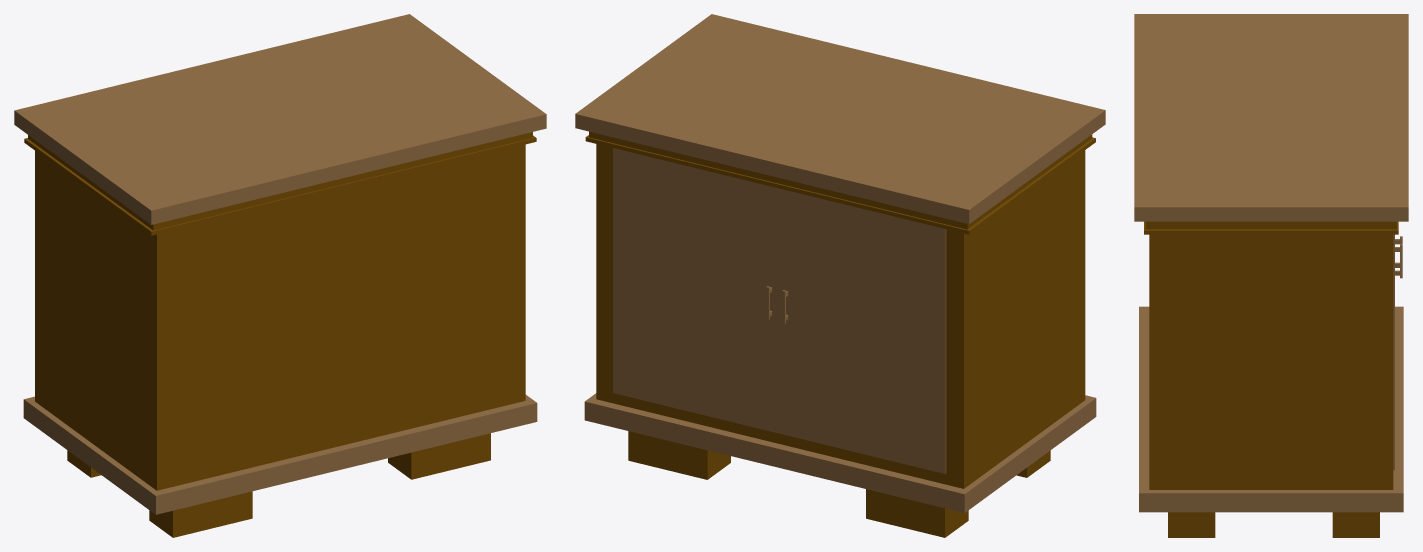
Rendered from dresser1.fbx.
The picture shows the model from 3 angles, left to right: view 1: azimuth 30°, elevation 25°; view 2: azimuth 150°, elevation 25°; view 3: azimuth 270°, elevation 25°; orthographic projection.
Visible parts, largest first — view 1: polySurface59; view 2: polySurface59; view 3: polySurface59.
Part boxes in pixels (x1,y1,x2,y2): polySurface59: [14, 14, 546, 537]; polySurface59: [575, 14, 1105, 537]; polySurface59: [1134, 14, 1408, 537].
Bounding box in the file's own units: 14.93 × 12.59 × 8.96.
